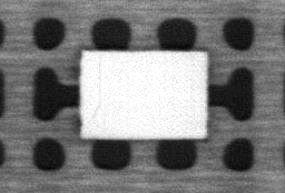DIE_CRACK: (84, 57, 103, 125)
